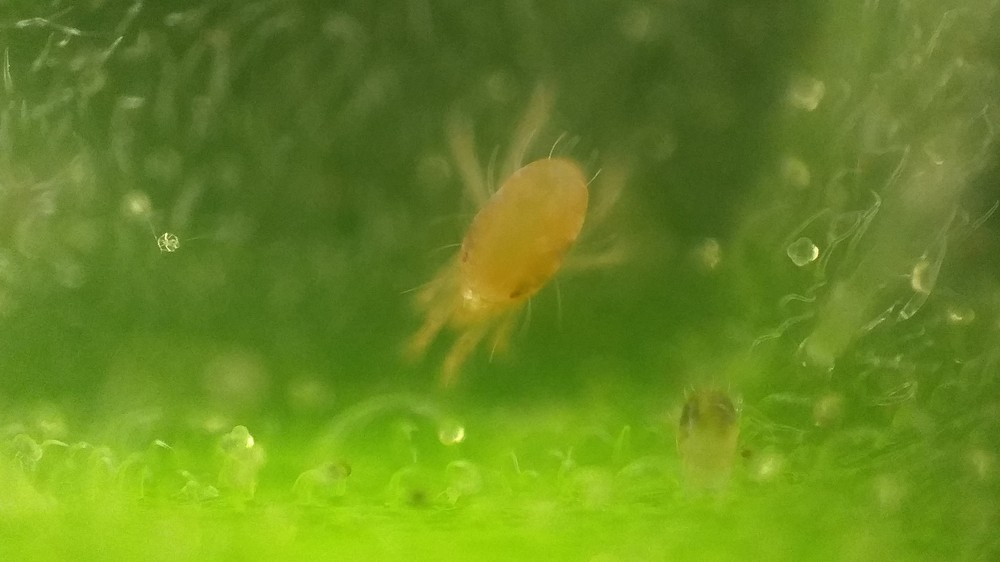Aracnido Rojo: (379, 83, 646, 390)
